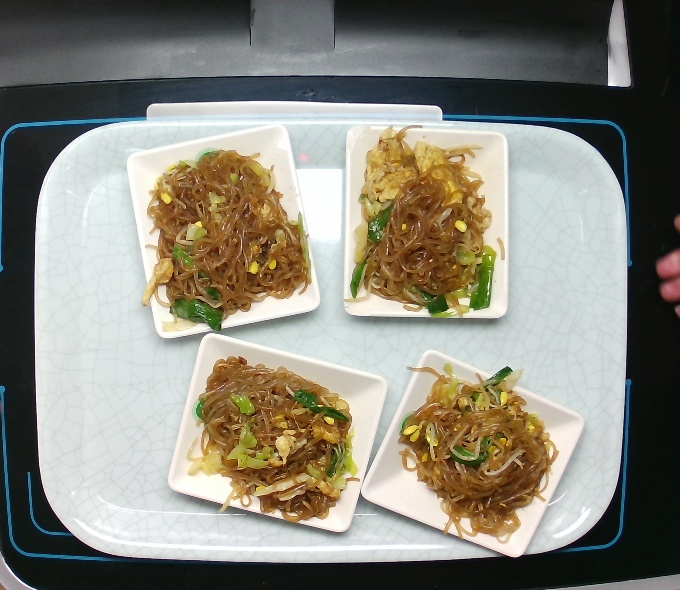wcq-FenSiChaoDan: (149, 148, 312, 331), (401, 363, 560, 544), (193, 353, 360, 525), (355, 127, 503, 318)
